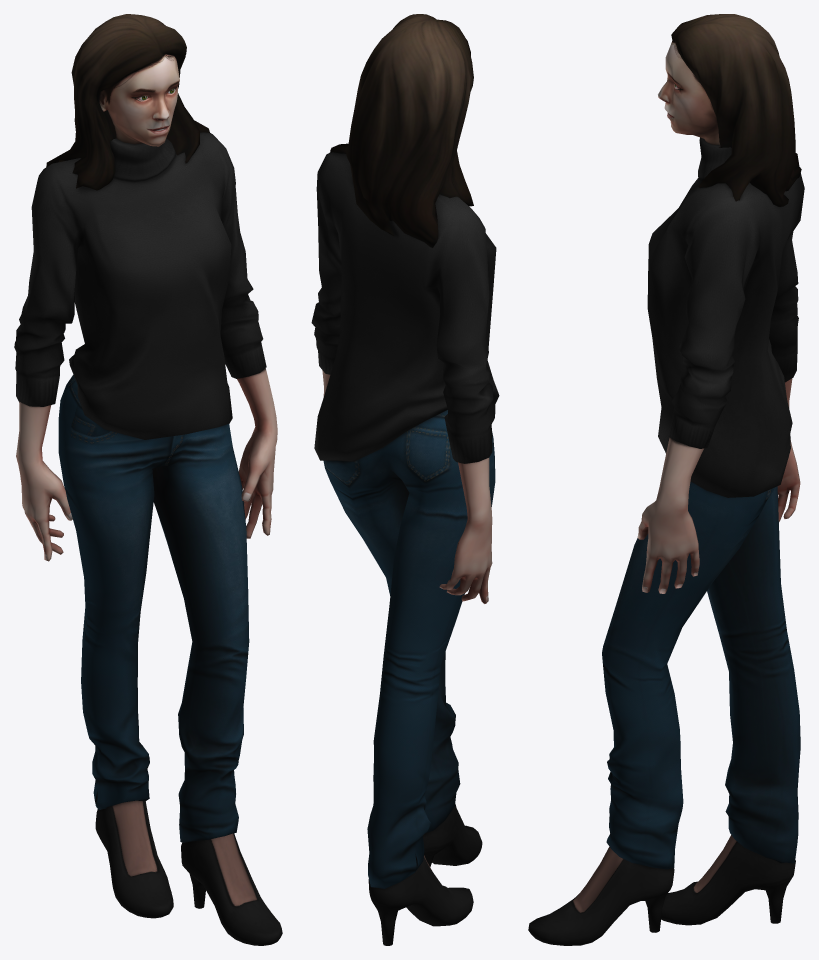
Rendered from pose.obj.
3 renders of one model, left to right at view 1: azimuth 30°, elevation 25°; view 2: azimuth 150°, elevation 25°; view 3: azimuth 270°, elevation 25°, orthographic. The views are drawn at different scales.
Visible parts, largest first — view 1: low; view 2: low; view 3: low.
Part boxes in pixels (x1,y1,x2,y2): low: [14, 14, 282, 945]; low: [311, 14, 499, 945]; low: [528, 14, 804, 945].
Size of the model in its own units: 47.42 by 191 by 52.77.
Materials: 1 (1 with a texture image).
